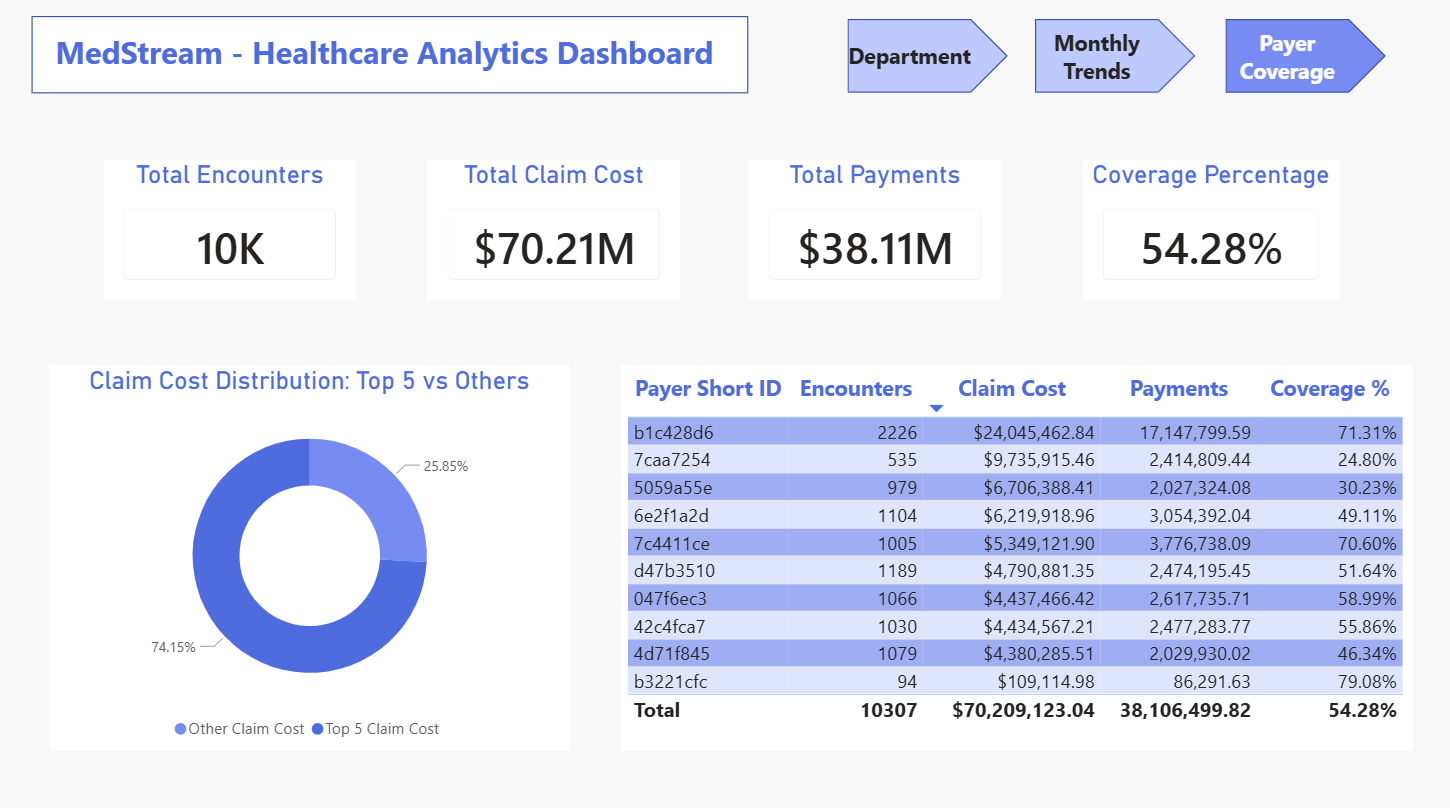

What the dashboard file says about the page in this screenshot:
{"tool":"powerbi","page":{"name":"Payer Coverage Summary","canvas":[1280,720],"ordinal":2},"visuals":[{"type":"cardVisual","title":"Total Encounters","fields":{"Data":["Sum(payer_coverage_summary.encounter_count)"]},"box":[94.7,143.1,218.6,121.2],"z":0},{"type":"cardVisual","title":"Total Claim Cost","fields":{"Data":["Sum(payer_coverage_summary.total_claim_cost)"]},"box":[375.4,143.1,218.6,121.2],"z":1000},{"type":"cardVisual","title":"Total Payments","fields":{"Data":["Sum(payer_coverage_summary.total_payments)"]},"box":[653,143.1,218.6,121.2],"z":2000},{"type":"cardVisual","title":"Coverage Percentage","fields":{"Data":["payer_coverage_summary.Coverage %"]},"box":[943.4,143.1,221.8,121.2],"z":3000},{"type":"tableEx","fields":{"Values":["payer_coverage_summary.Payer Short ID","Sum(payer_coverage_summary.encounter_count)","Sum(payer_coverage_summary.total_claim_cost)","Sum(payer_coverage_summary.total_payments)","payer_coverage_summary.Coverage %"]},"box":[542.4,320.7,686,333.4],"z":4000},{"type":"donutChart","title":"Claim Cost Distribution: Top 5 vs Others","fields":{"Y":["payer_coverage_summary.Other Claim Cost","payer_coverage_summary.Top 5 Claim Cost"]},"box":[47.9,320.7,449.9,333.4],"z":5000},{"type":"shape","box":[738.7,20.7,138.8,63.8],"z":7000},{"type":"shape","box":[901.4,20.7,138.8,63.8],"z":8000},{"type":"shape","box":[1065.7,20.7,138.8,63.8],"z":9000},{"type":"shape","box":[31.9,17.5,620.6,67],"z":10000},{"type":"textbox","box":[47.9,25.5,591.9,49.5],"z":11000}]}

Visuals, with their boxes in screenshot pixels (x1, y1, x2, y2), scaled from the page's 1280x720 canvas onto the 1450x808 screenshot:
"Total Encounters" cardVisual: crop(107, 161, 355, 297)
"Total Claim Cost" cardVisual: crop(425, 161, 673, 297)
"Total Payments" cardVisual: crop(740, 161, 987, 297)
"Coverage Percentage" cardVisual: crop(1069, 161, 1320, 297)
tableEx - payer_coverage_summary.Payer Short ID x Sum(payer_coverage_summary.encounter_count): crop(614, 360, 1392, 734)
"Claim Cost Distribution: Top 5 vs Others" donutChart: crop(54, 360, 564, 734)
shape: crop(837, 23, 994, 95)
shape: crop(1021, 23, 1178, 95)
shape: crop(1207, 23, 1364, 95)
shape: crop(36, 20, 739, 95)
textbox: crop(54, 29, 725, 84)
